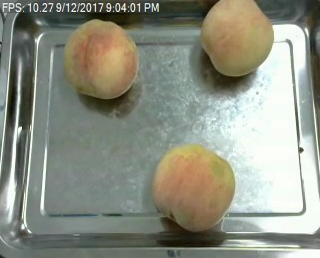Peach: (150, 143, 235, 233), (64, 18, 139, 99), (197, 0, 273, 78)
